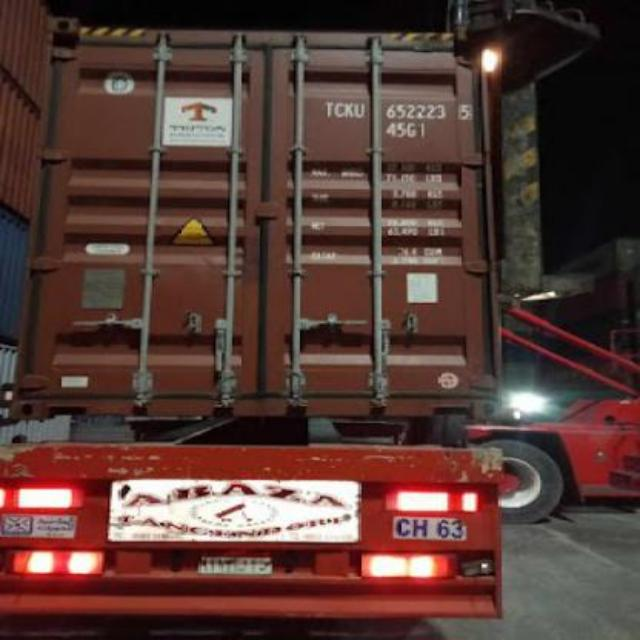2: (422, 96, 436, 124), (406, 100, 416, 120), (416, 102, 426, 122)
3: (434, 101, 448, 125)
5: (458, 102, 474, 122), (396, 102, 406, 122)
6: (386, 102, 396, 120)
C: (334, 98, 344, 122)
K: (344, 99, 354, 123)
T: (321, 98, 334, 119)
U: (352, 96, 368, 124)
